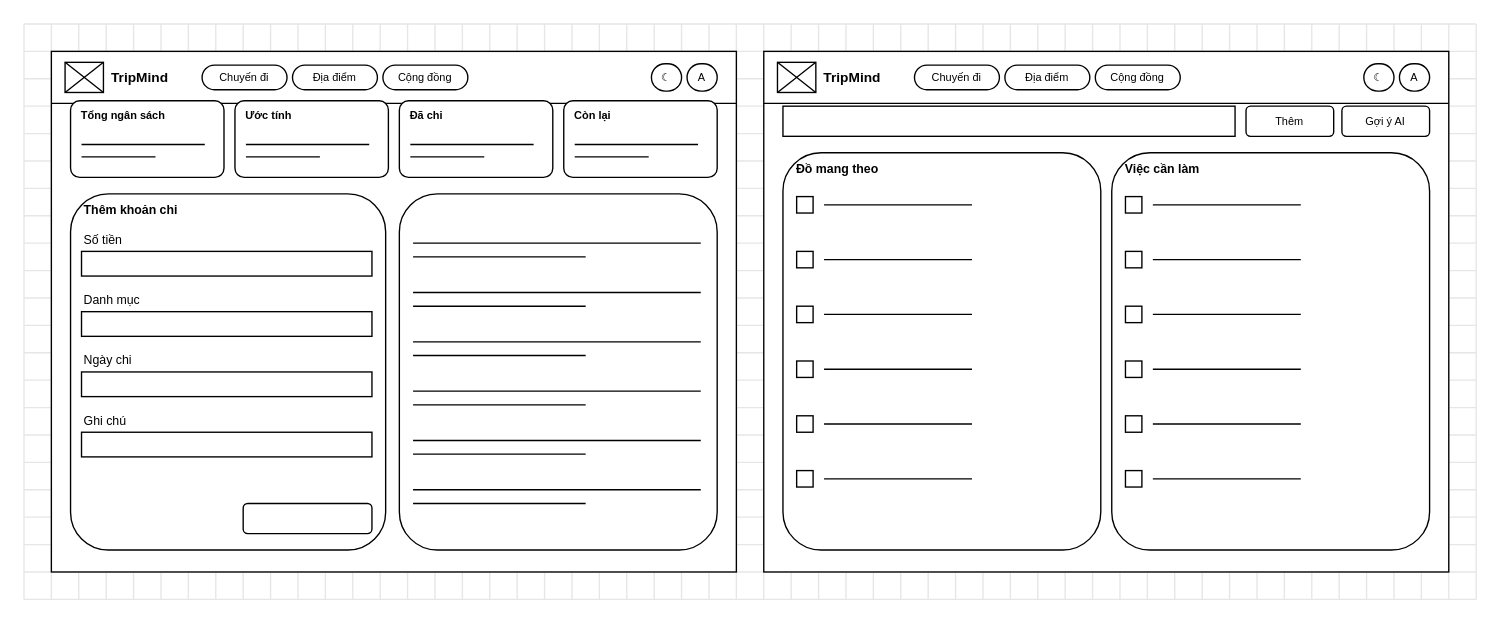
The diagram is 1502 pixels wide and 625 high, and some of its shapes have lost their labels. The shapes that lost their labels are listed below. From the top down, each one's box as (x1, y1, x2, y2) in pixels, then its label:
(398, 192, 717, 550): Lịch sử chi tiêu
(242, 502, 372, 534): Lưu khoản chi
